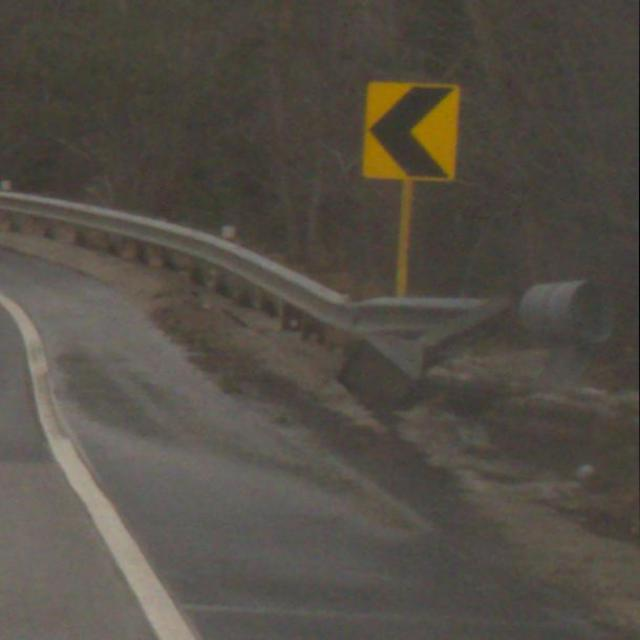Guard rail: (0, 173, 517, 349)
